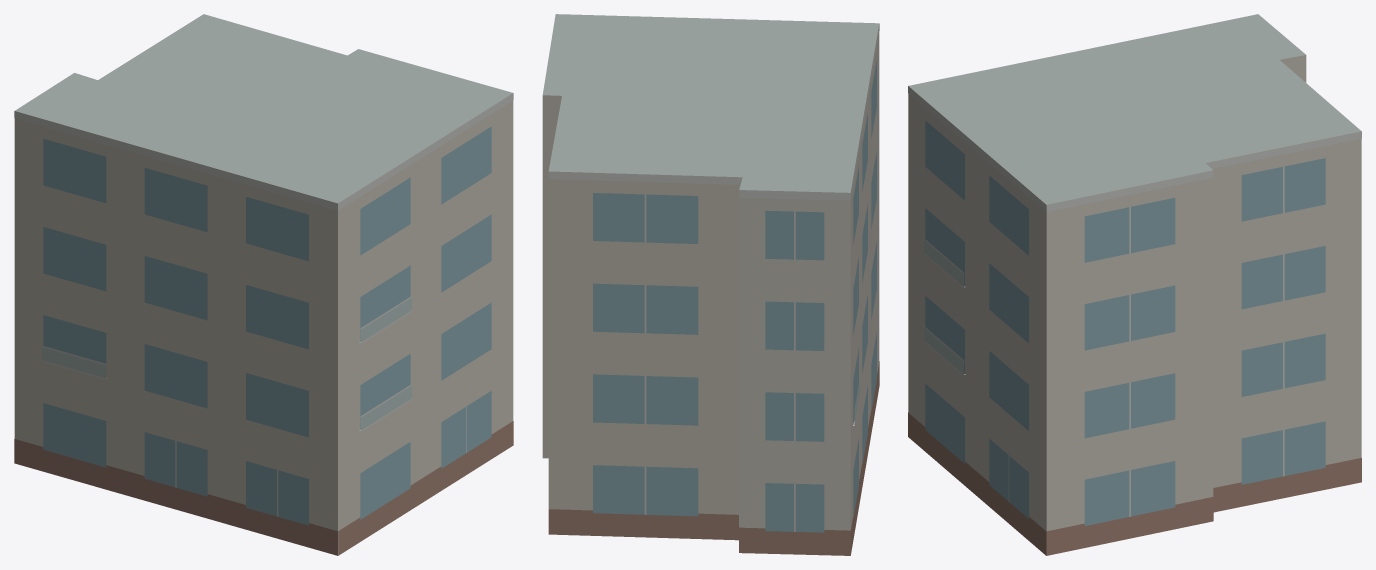
Rendered from survey-upis-32544341.glb.
3 renders of one model, left to right at view 1: azimuth 30°, elevation 25°; view 2: azimuth 150°, elevation 25°; view 3: azimuth 270°, elevation 25°, orthographic. The views are drawn at different scales.
Visible parts, largest first — view 1: survey-upis-32544341.tmp; view 2: survey-upis-32544341.tmp; view 3: survey-upis-32544341.tmp.
Part boxes in pixels (box(x1,y1,x2,y2)): survey-upis-32544341.tmp: box(14, 14, 513, 555); survey-upis-32544341.tmp: box(542, 14, 879, 555); survey-upis-32544341.tmp: box(908, 14, 1361, 555).
Bounding box in the file's own units: 13.65 × 11.7 × 13.71.
